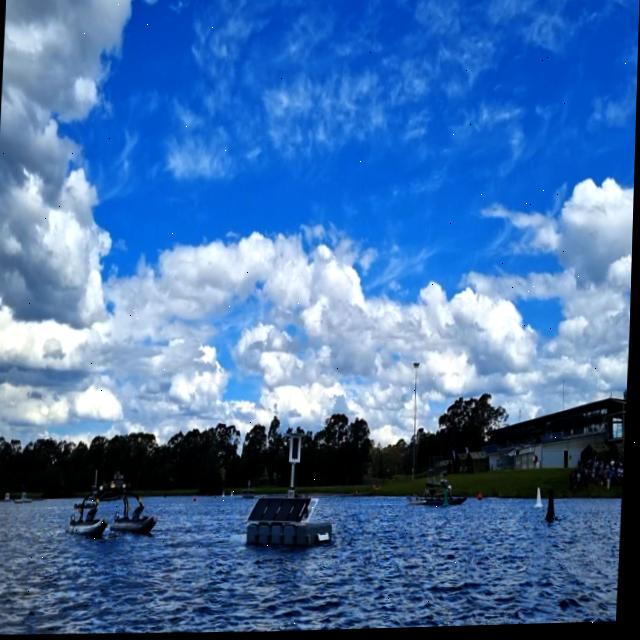led: (292, 438, 303, 463)
